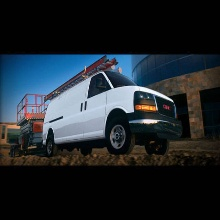no damage: (42, 70, 183, 156)
